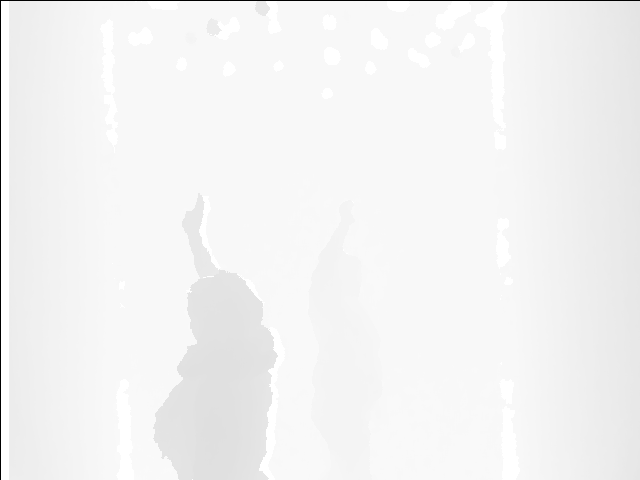hand: (180, 193, 210, 235), (336, 196, 360, 232)
